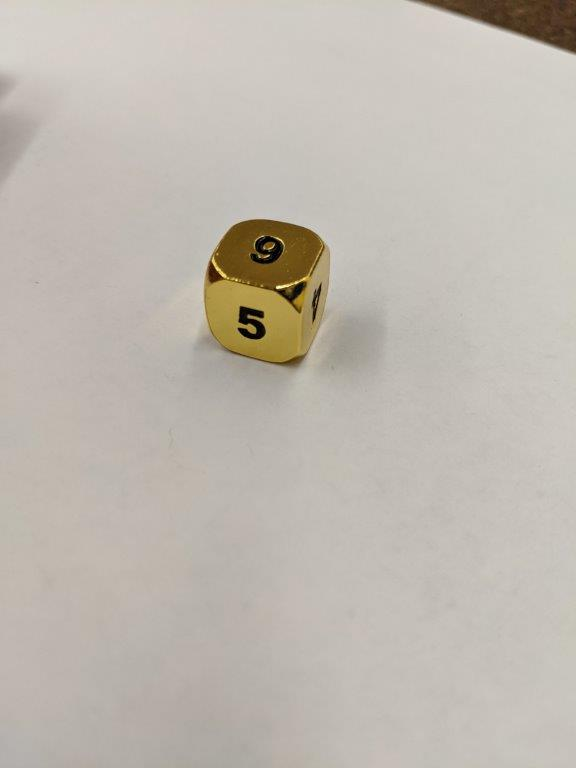d6-6: (202, 217, 331, 367)
